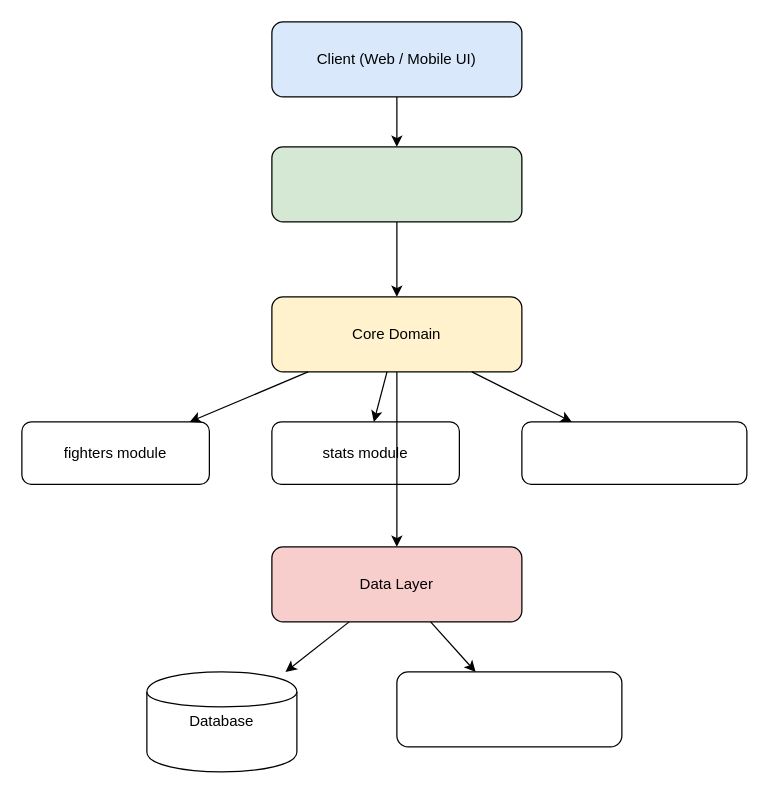
This 769x794 diagram has some shape labels left out. Each missing label, with the box of its shape:
API Layer (BFF): (271, 146, 522, 222)
External APIs / Parsers: (396, 671, 622, 747)
users module (optional): (521, 421, 747, 484)
